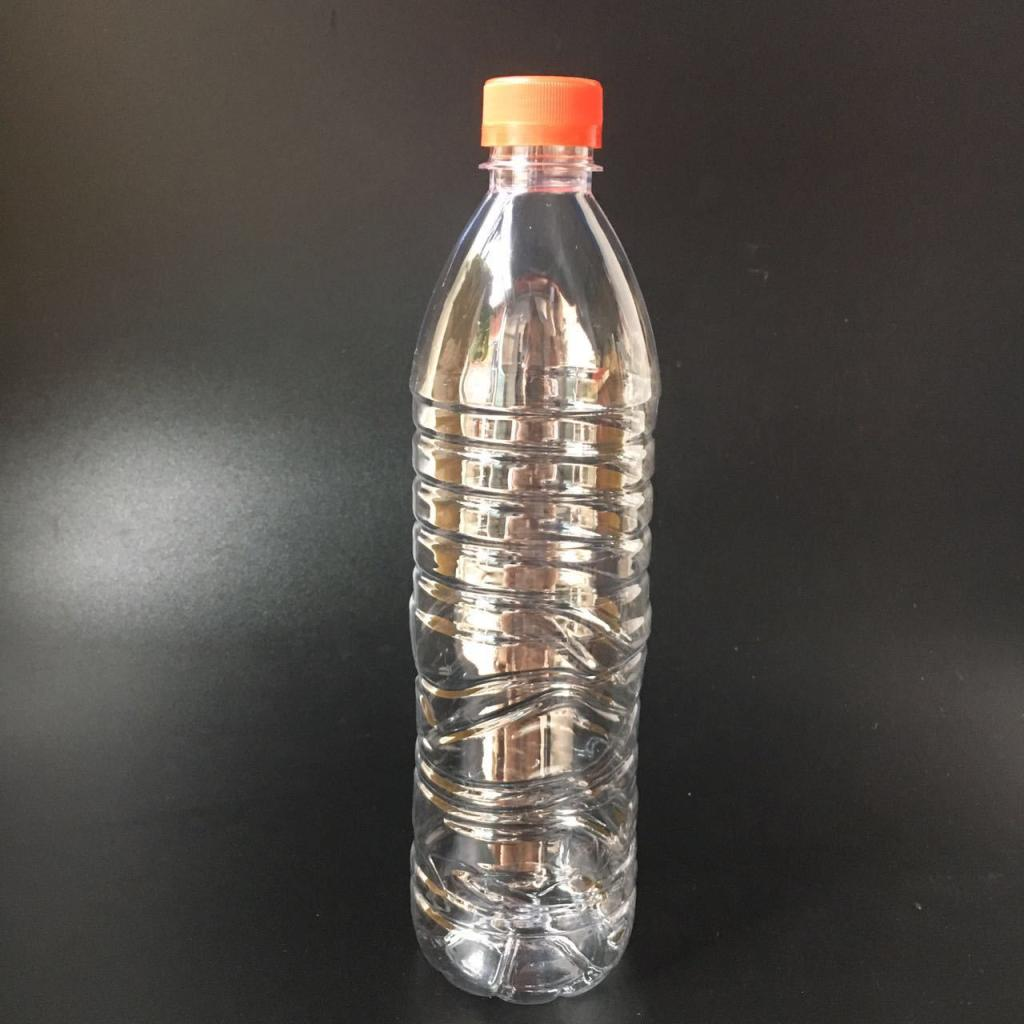plastic: (407, 63, 665, 1009)
